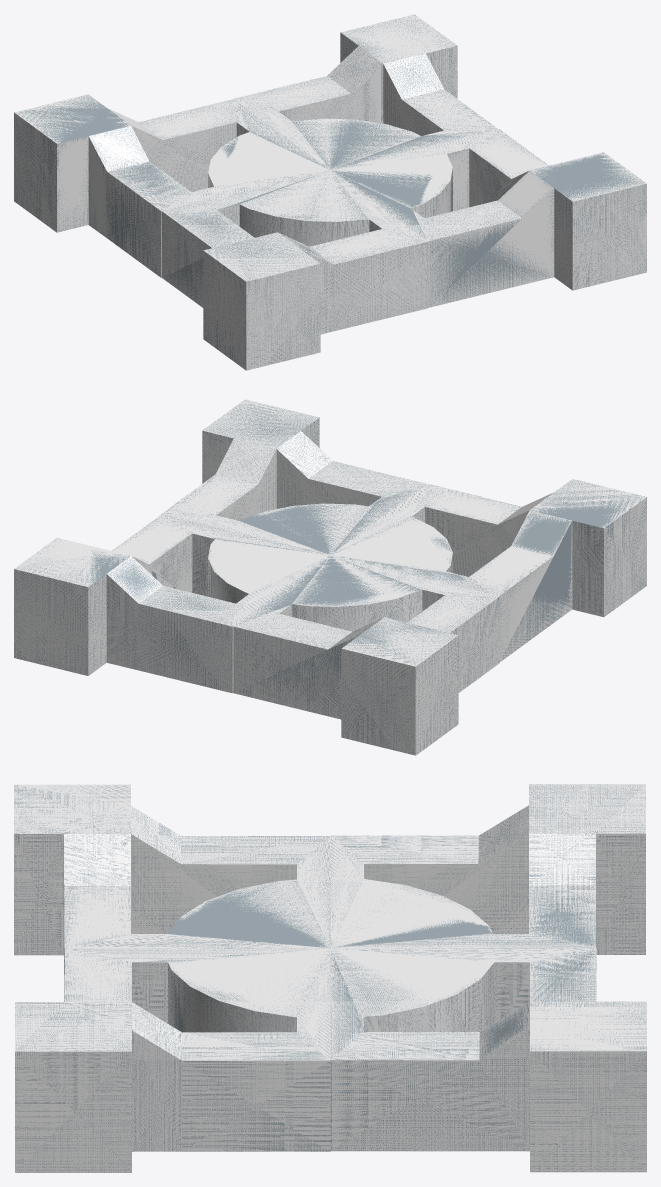
3 views of the same model, one above another, from view 1: azimuth 30°, elevation 25°; view 2: azimuth 150°, elevation 25°; view 3: azimuth 270°, elevation 25° (orthographic). The views are drawn at different scales.
Visible parts, largest first — view 1: Group4, Group3, Group1, Group2; view 2: Group1, Group2, Group4, Group3; view 3: Group2, Group3, Group4, Group1.
Part boxes in pixels (x1,y1,x2,y2): Group4: (162, 170, 427, 370); Group3: (331, 129, 646, 307); Group1: (14, 94, 329, 277); Group2: (233, 14, 498, 170); Group1: (233, 555, 499, 755); Group2: (14, 514, 329, 693); Group4: (331, 479, 646, 662); Group3: (161, 399, 427, 555); Group2: (330, 948, 646, 1172); Group3: (15, 948, 330, 1172); Group4: (14, 784, 330, 1001); Group1: (330, 784, 645, 954).
Bounding box in the file's own units: 18.92 × 4 × 18.92.
